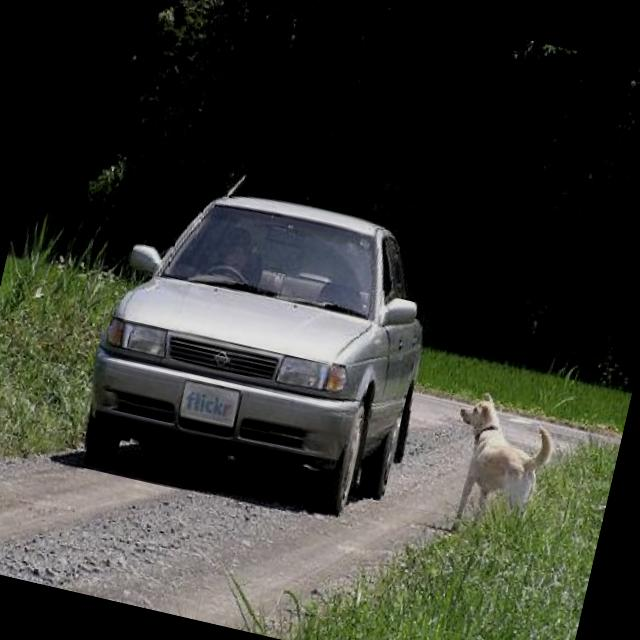Person: (212, 222, 258, 276)
